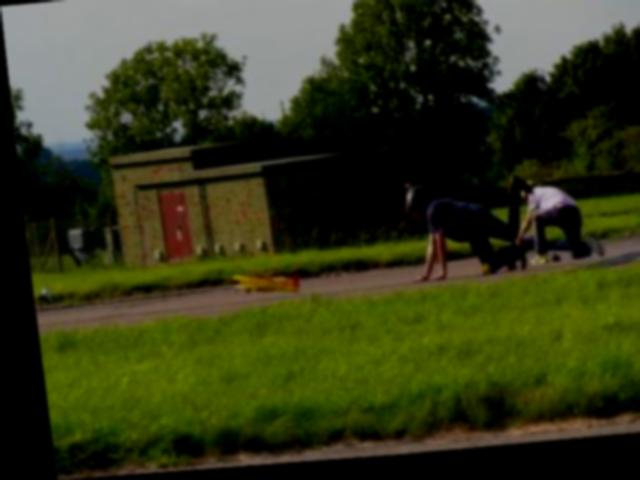uav: (218, 265, 299, 305)
